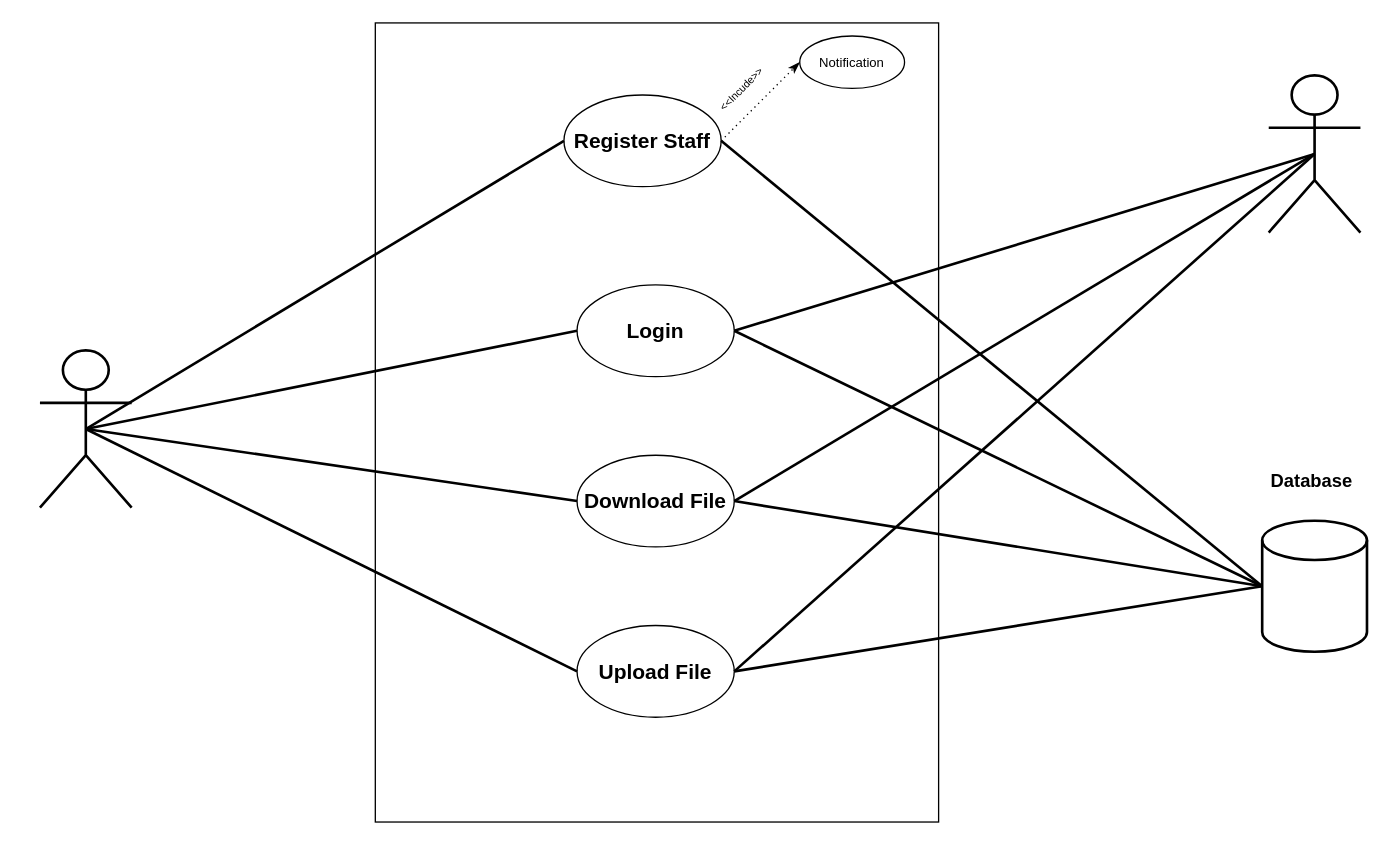
This 1390x845 diagram has some shape labels left out. The shapes that lost their labels are listed below. From the top down, each one's box as (x1, y1, x2, y2) in pixels, then its label:
(1267, 73, 1361, 233): Staff
(38, 348, 132, 508): Administrator
